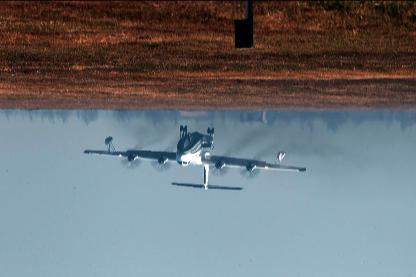AG600: (84, 124, 306, 190)
